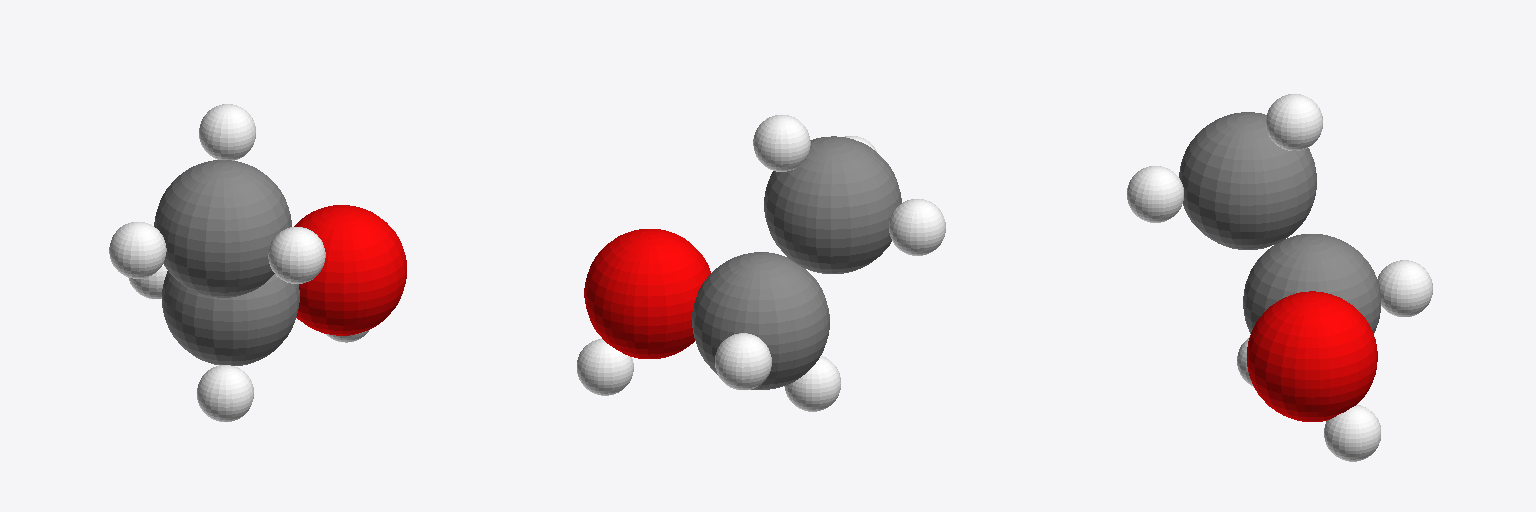
Rendered from blender_export_ethanole.obj.
The picture shows the model from 3 angles: view 1: azimuth 30°, elevation 25°; view 2: azimuth 150°, elevation 25°; view 3: azimuth 270°, elevation 25°; orthographic projection.
Parts seen in each view (by area): view 1: Carbon_ball_SurfSphere, Hydrogen_ball_SurfSphere.002, Oxygen_ball_SurfSphere.001; view 2: Carbon_ball_SurfSphere, Oxygen_ball_SurfSphere.001, Hydrogen_ball_SurfSphere.002; view 3: Carbon_ball_SurfSphere, Oxygen_ball_SurfSphere.001, Hydrogen_ball_SurfSphere.002.
Boxes of the visible parts, x1,y1,x2,y2 form: Carbon_ball_SurfSphere: [154, 160, 299, 365]; Hydrogen_ball_SurfSphere.002: [109, 104, 368, 421]; Oxygen_ball_SurfSphere.001: [294, 205, 406, 335]; Carbon_ball_SurfSphere: [692, 136, 901, 389]; Oxygen_ball_SurfSphere.001: [584, 229, 710, 358]; Hydrogen_ball_SurfSphere.002: [577, 115, 945, 411]; Carbon_ball_SurfSphere: [1179, 112, 1380, 333]; Oxygen_ball_SurfSphere.001: [1247, 291, 1377, 421]; Hydrogen_ball_SurfSphere.002: [1127, 94, 1432, 461].
Bounding box in the file's own units: 4.08 × 3.67 × 3.41.